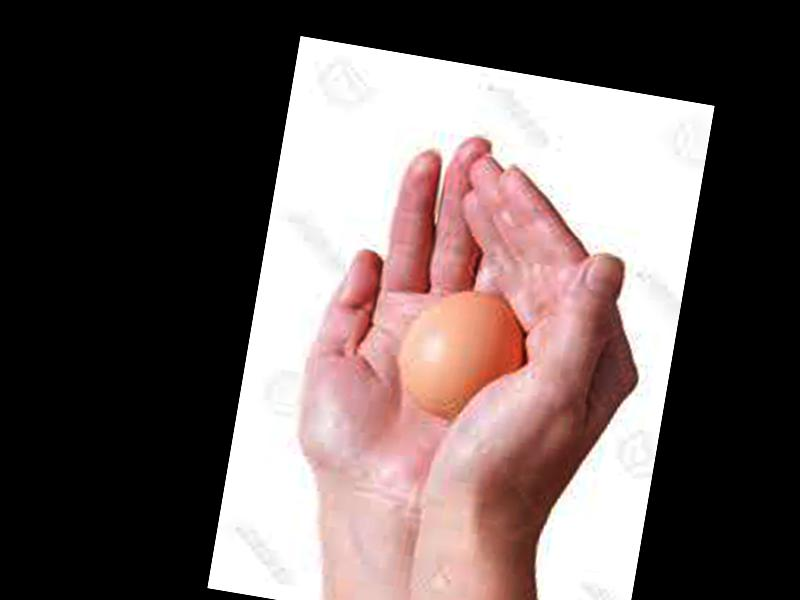Eggs: (397, 282, 530, 422)
